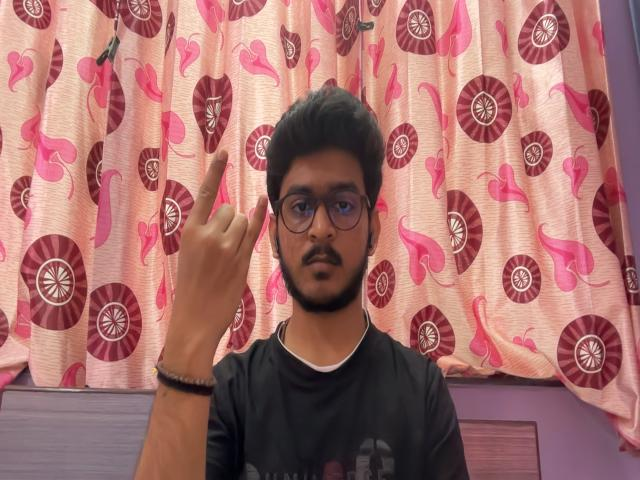I Love You: (167, 142, 269, 354)
